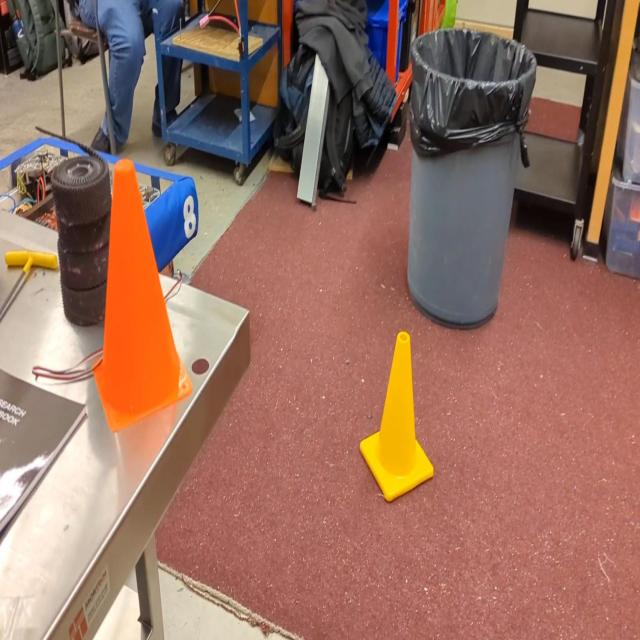frc_cone: (358, 332, 436, 504)
